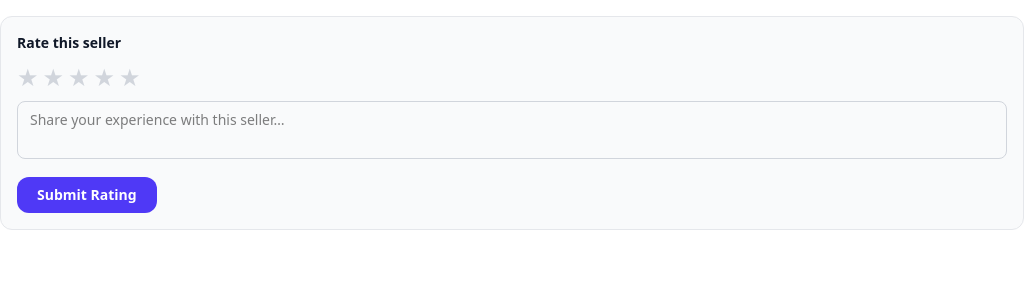
Test: SellerReviewPanel › submits rating and comment, shows success
Click the radio button named "5 stars". click: click(130, 77)
box: [119, 65, 141, 89]
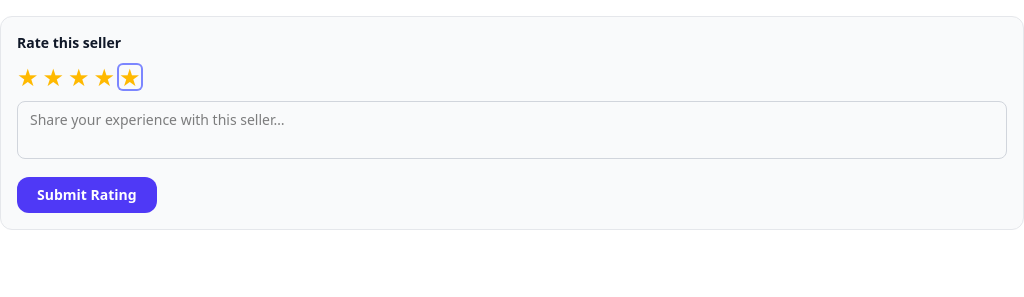
Type "Fast shipping!" into the text box with placeholder "Share your experience with this seller…". click: (512, 130)
box: [17, 101, 1007, 159]
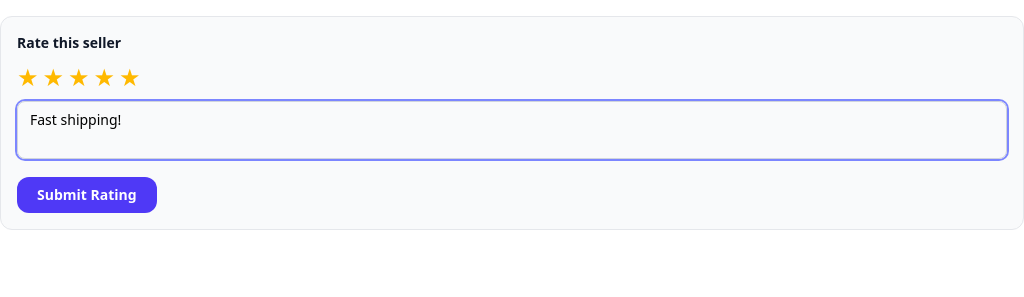
Click the button "Submit Rating". click: click(87, 195)
box: [17, 177, 157, 213]
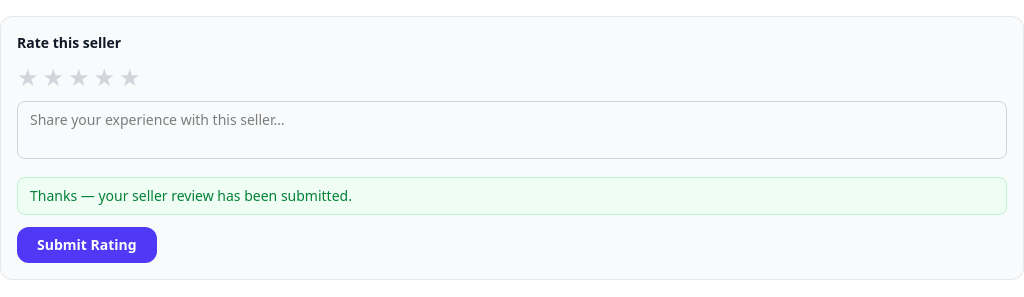
expect the text "Thanks — your seller review has been submitted." is shown: met, box [17, 177, 1007, 215]
